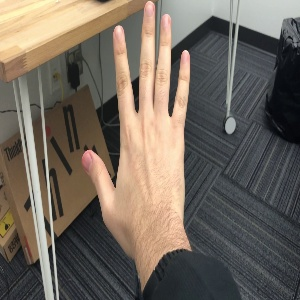hand: (83, 1, 191, 226)
